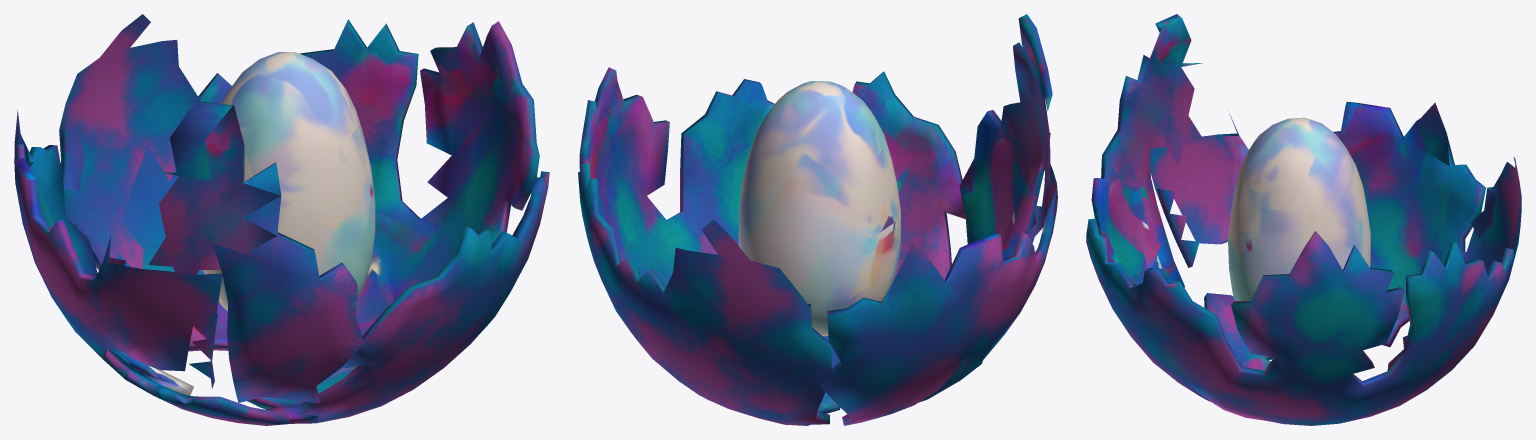
3 views of the same model, side by side, from view 1: azimuth 30°, elevation 25°; view 2: azimuth 150°, elevation 25°; view 3: azimuth 270°, elevation 25° (orthographic). The views are drawn at different scales.
Visible parts, largest first — view 1: tripo_part_6, tripo_part_2, tripo_part_8, tripo_part_5, tripo_part_4; view 2: tripo_part_6, tripo_part_5, tripo_part_8, tripo_part_2; view 3: tripo_part_6, tripo_part_8, tripo_part_5, tripo_part_2, tripo_part_4.
Part boxes in pixels (left/top/right/bottom): tripo_part_6: left=59, top=14, right=549, bottom=423; tripo_part_2: left=148, top=101, right=364, bottom=403; tripo_part_8: left=14, top=110, right=222, bottom=396; tripo_part_5: left=203, top=52, right=375, bottom=310; tripo_part_4: left=155, top=385, right=289, bottom=425; tripo_part_6: left=578, top=67, right=965, bottom=425; tripo_part_5: left=738, top=81, right=900, bottom=336; tripo_part_8: left=820, top=162, right=1057, bottom=425; tripo_part_2: left=959, top=14, right=1052, bottom=258; tripo_part_6: left=1086, top=157, right=1521, bottom=425; tripo_part_8: left=1150, top=101, right=1485, bottom=347; tripo_part_5: left=1228, top=117, right=1370, bottom=301; tripo_part_2: left=1091, top=14, right=1202, bottom=287; tripo_part_4: left=1204, top=293, right=1273, bottom=370.
Size of the model in its own units: 0.727 by 0.5989 by 0.7235.
